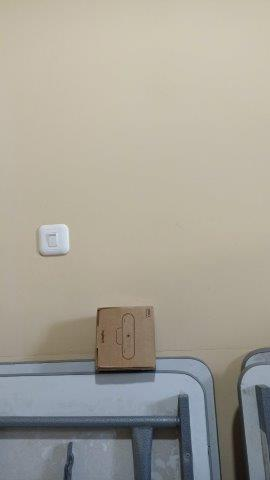kardus: (97, 308, 156, 370)
